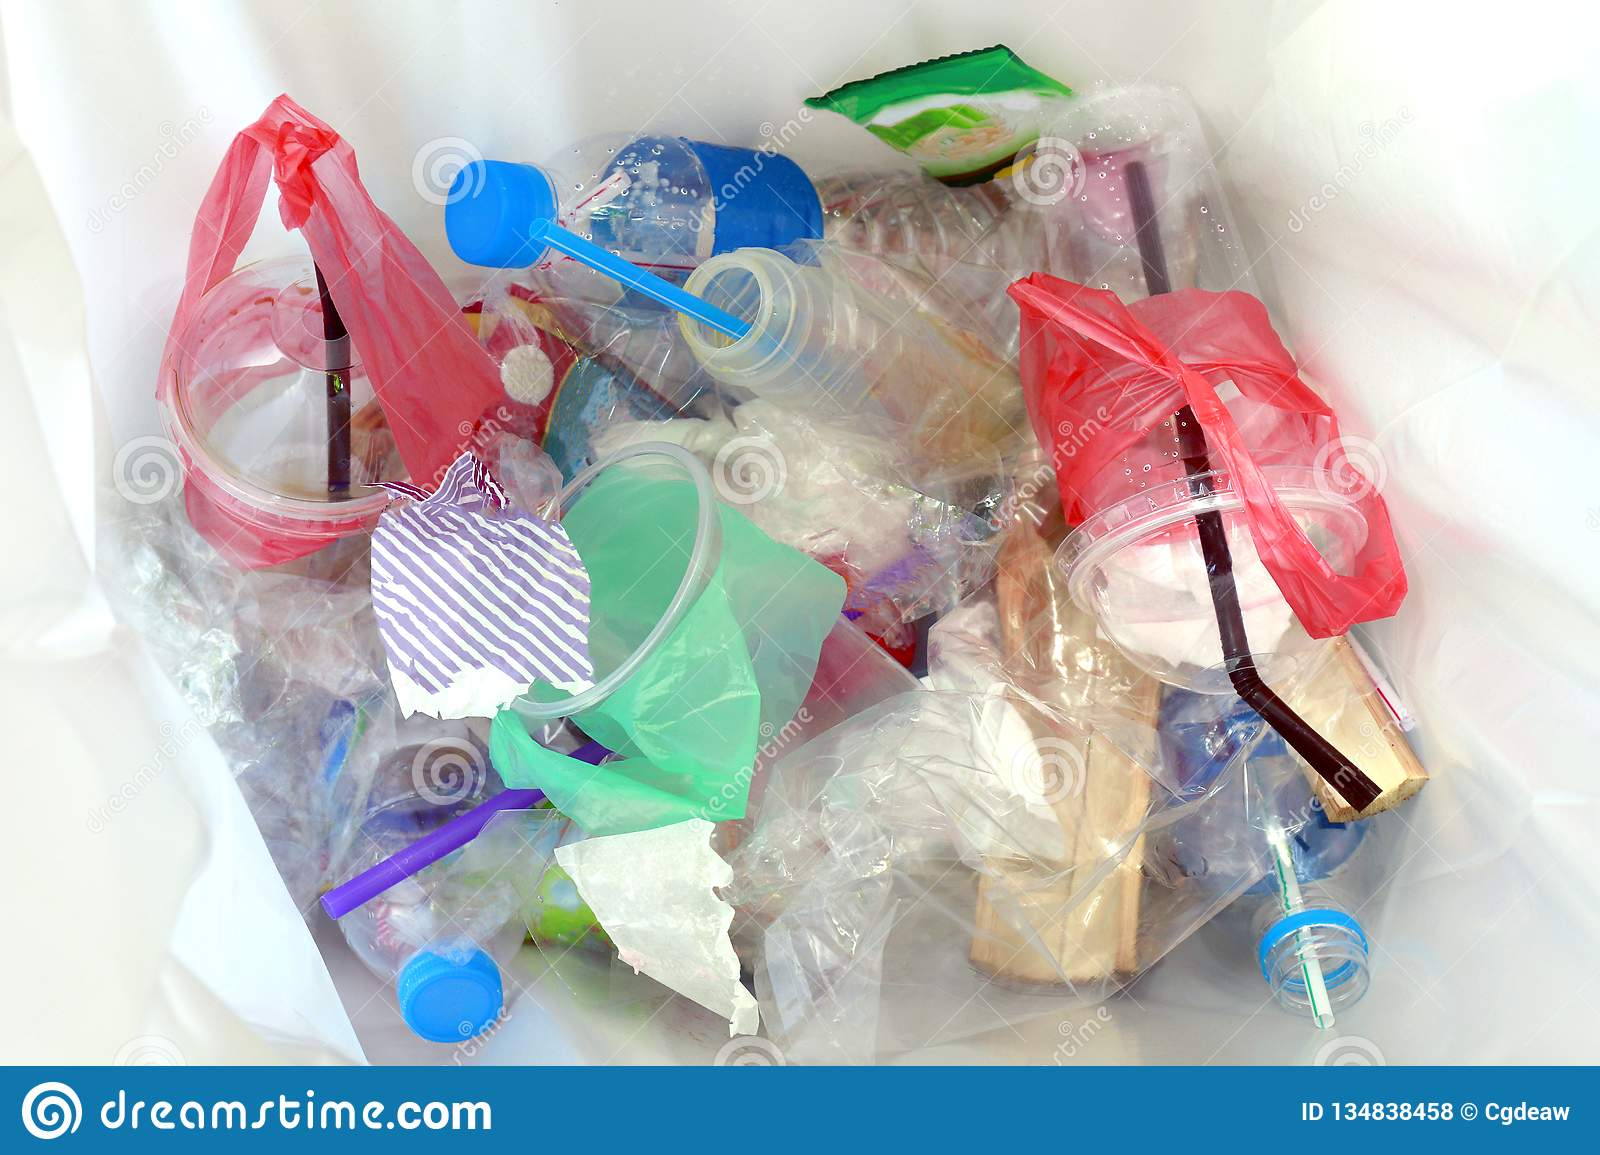plastic_bottle: (158, 594, 954, 1103), (380, 79, 1201, 481), (565, 153, 1217, 610), (1062, 556, 1530, 1068)
